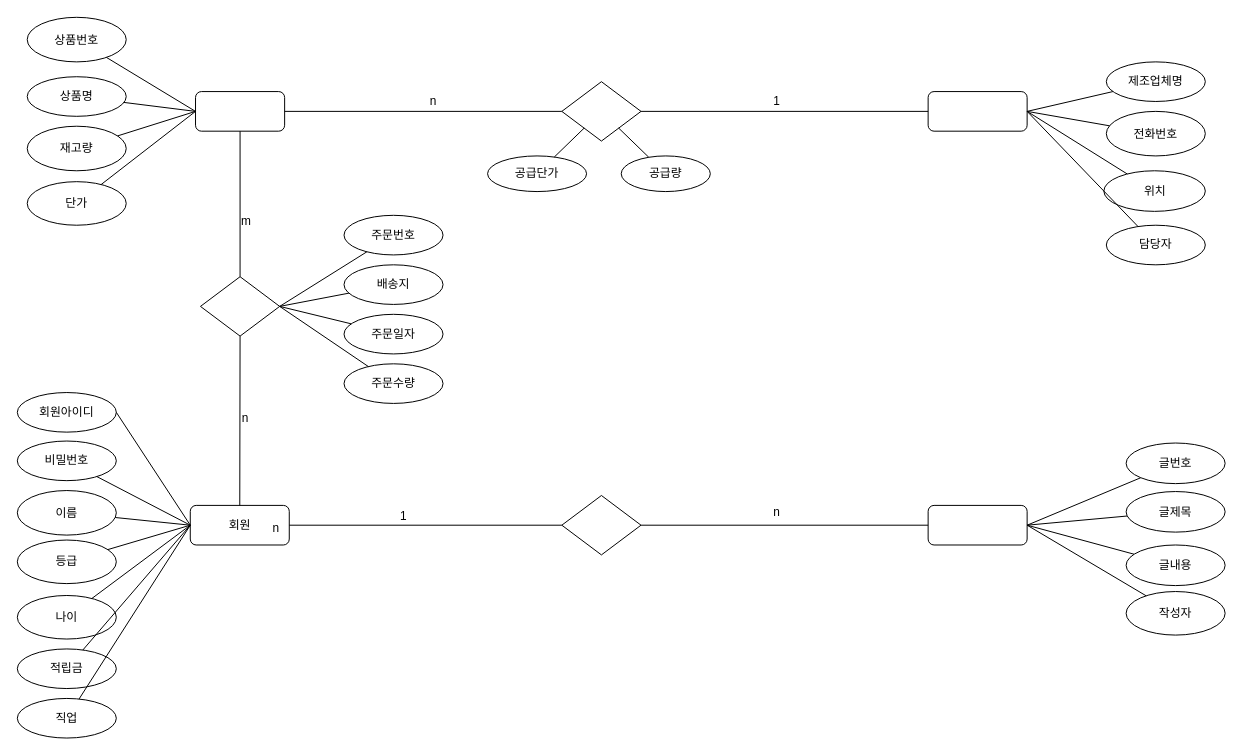
The diagram is 1242 pixels wide and 755 high, and some of its shapes have lost their labels. Each missing label, with the centre of its shape:
"게시물" goes at [977,524].
"공급" goes at [601,111].
"상품" goes at [240,111].
"작성" goes at [601,525].
"제조업체" goes at [977,111].
"주문" goes at [239,306].
